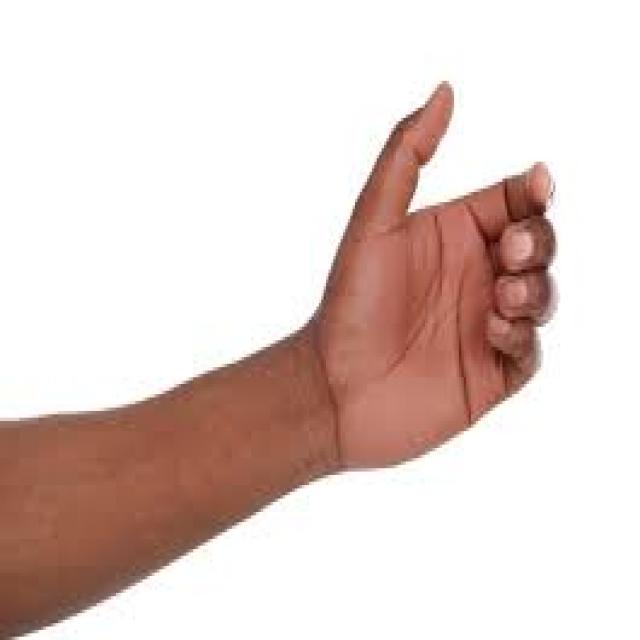hand: (248, 59, 562, 495)
